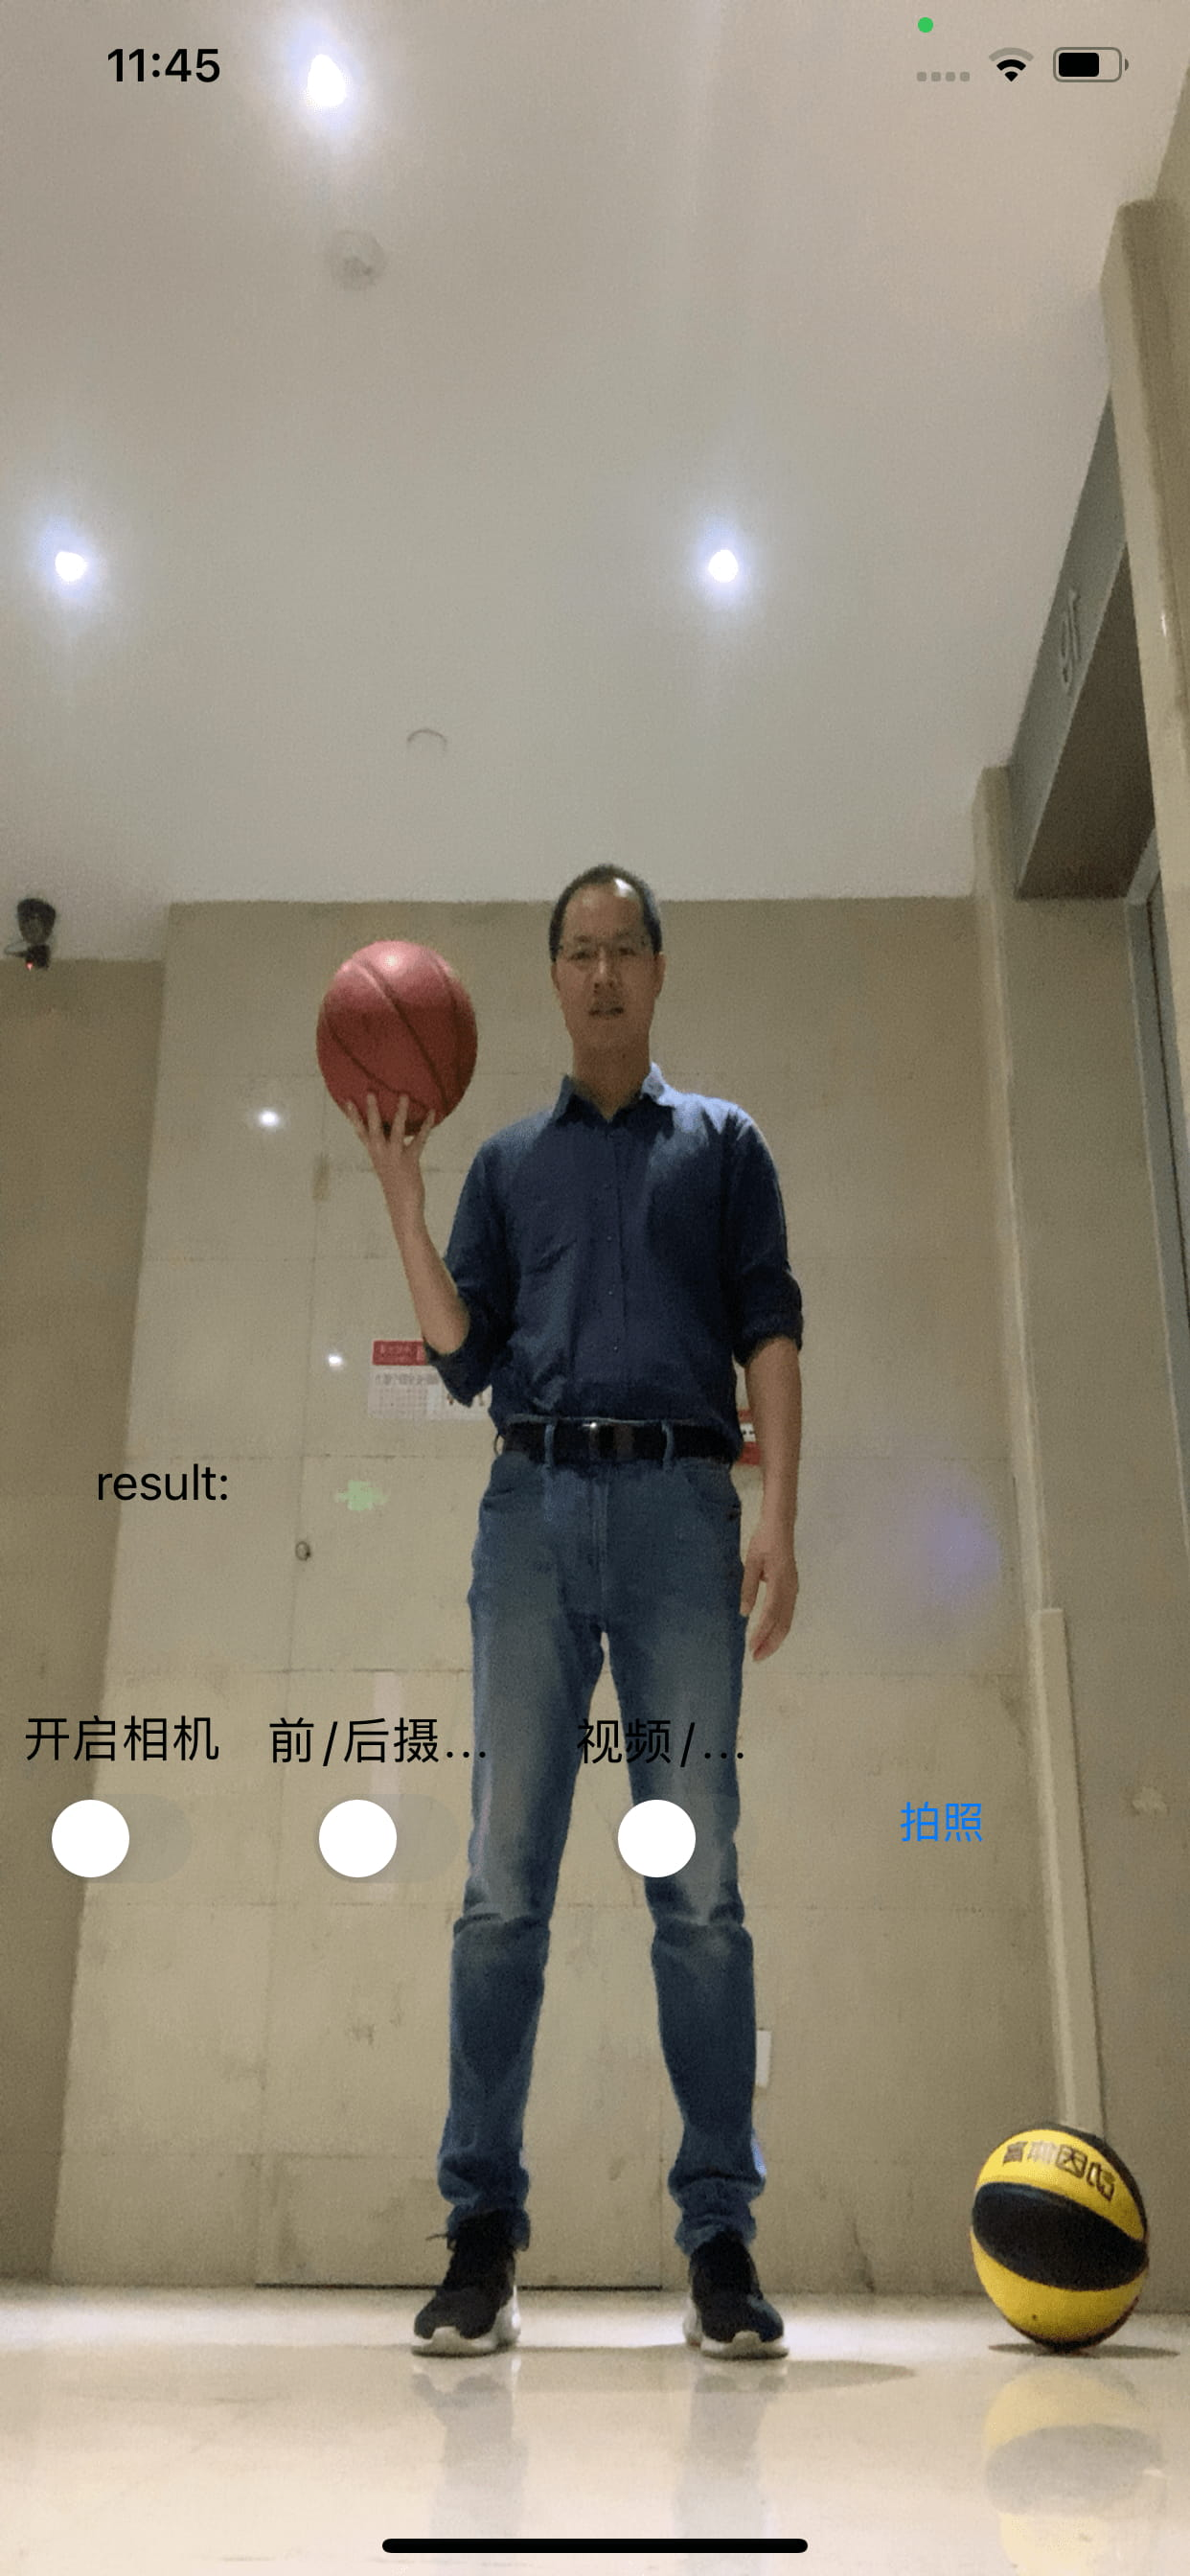ball: (970, 2123, 1146, 2344), (316, 935, 482, 1137)
